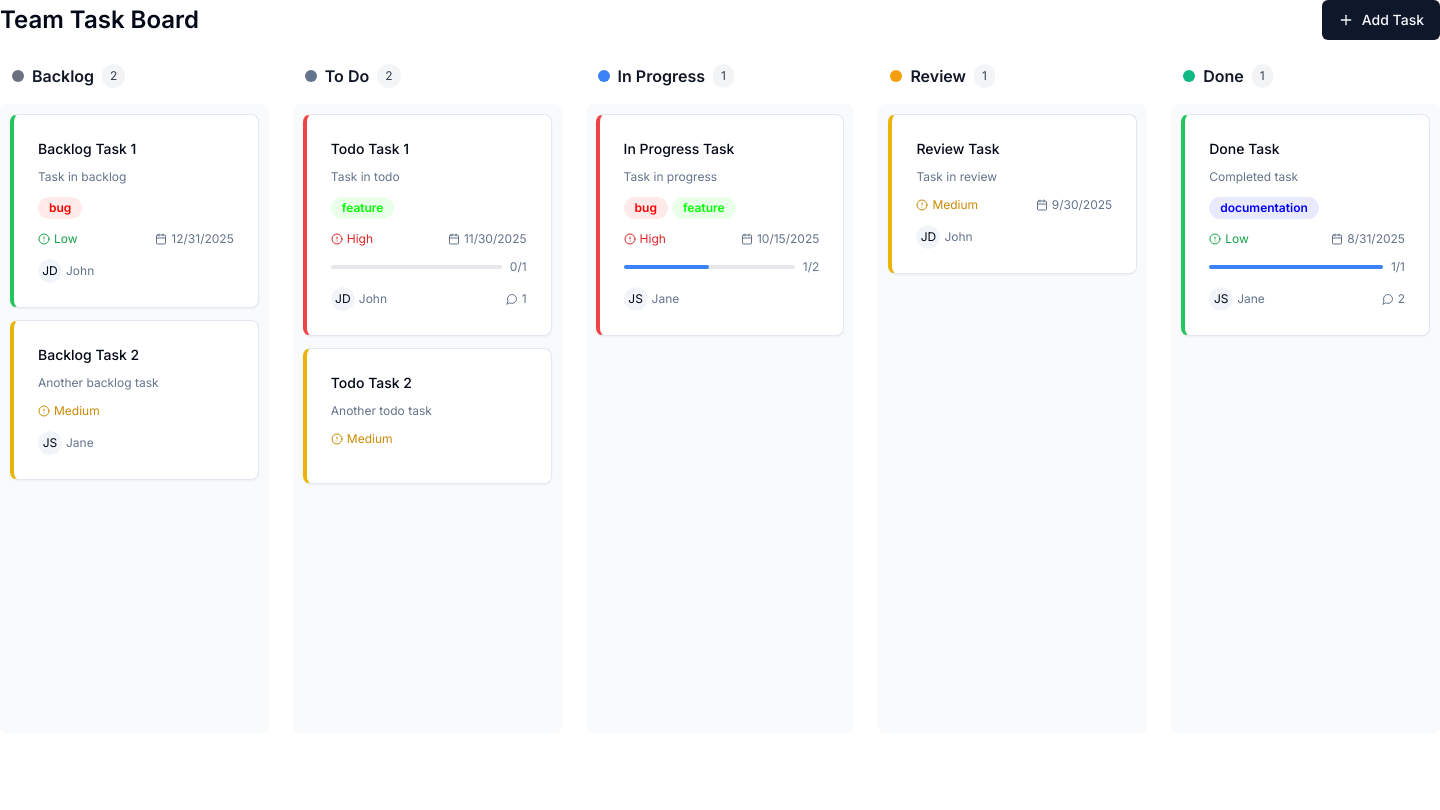
Test: KanbanBoard - 100% Coverage Tests › Task Modal › closes create modal on cancel
This screenshot has width=1440, height=810.
Note: Open modal
Step 1. Click the button "Add Task" → (1381, 20), box [1322, 0, 1439, 40]
(page scrolled)
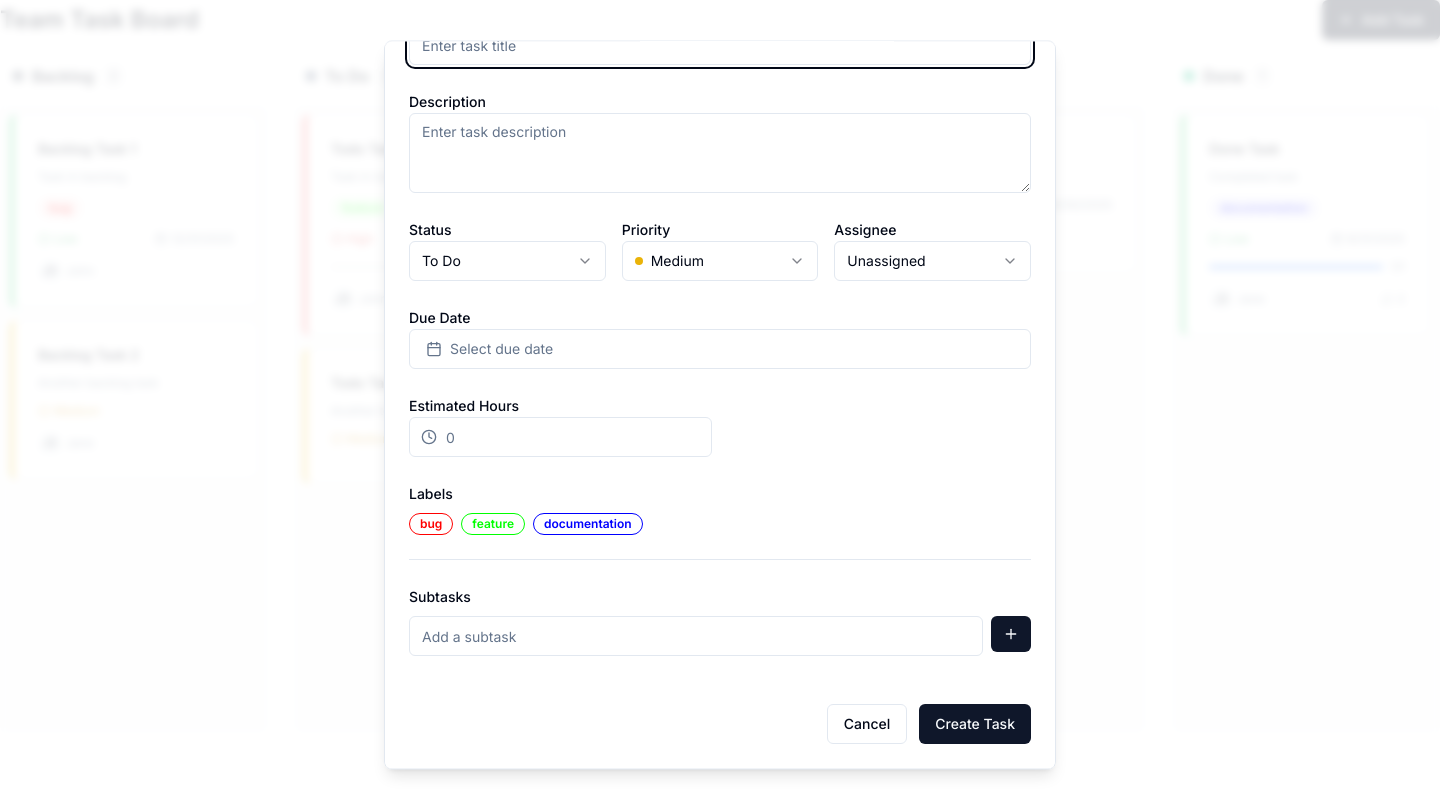
expect the dialog is shown: met, box [384, 40, 1056, 770]
Note: Close modal
Step 2. Click the button "Cancel" → (867, 724), box [827, 704, 907, 744]
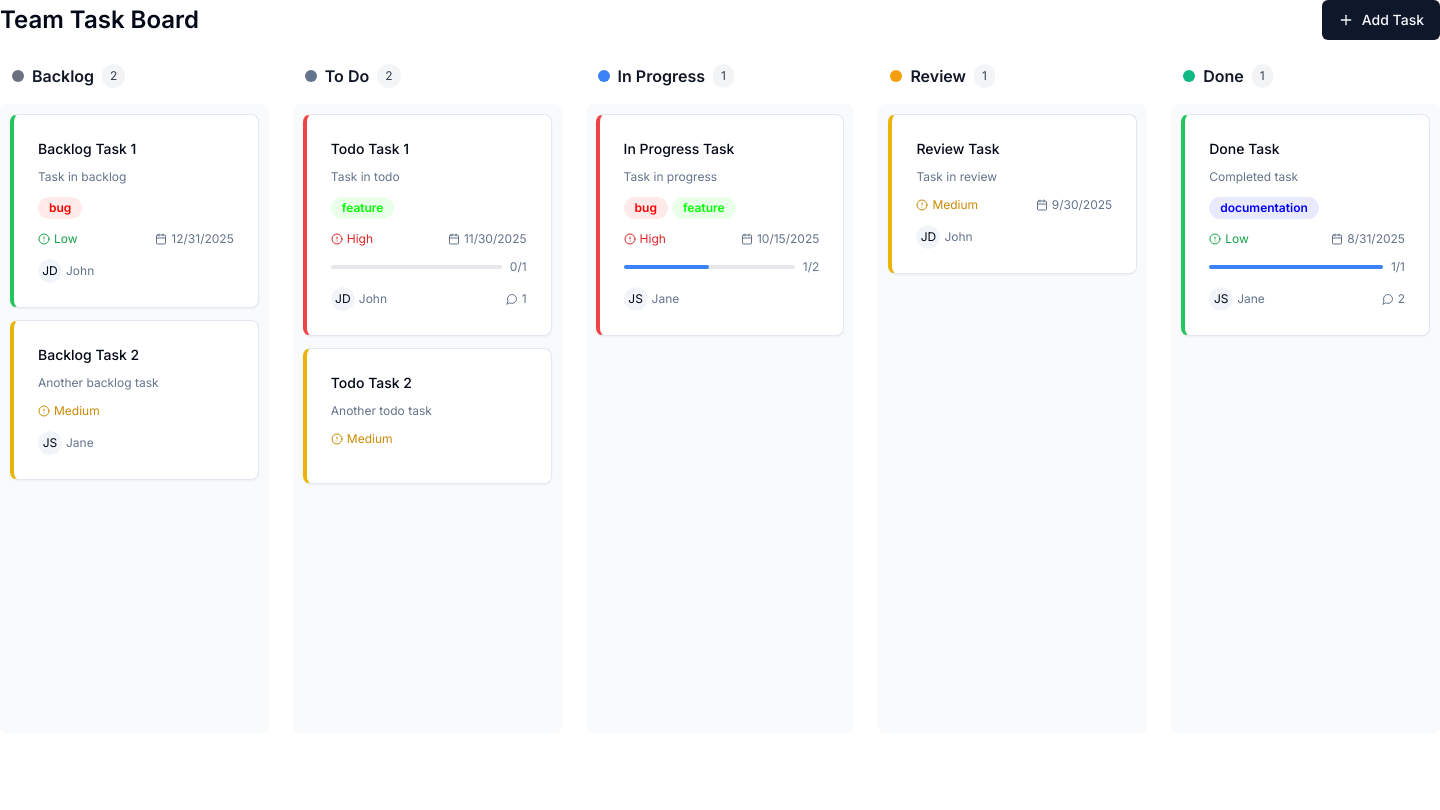
expect the dialog is gone: met
